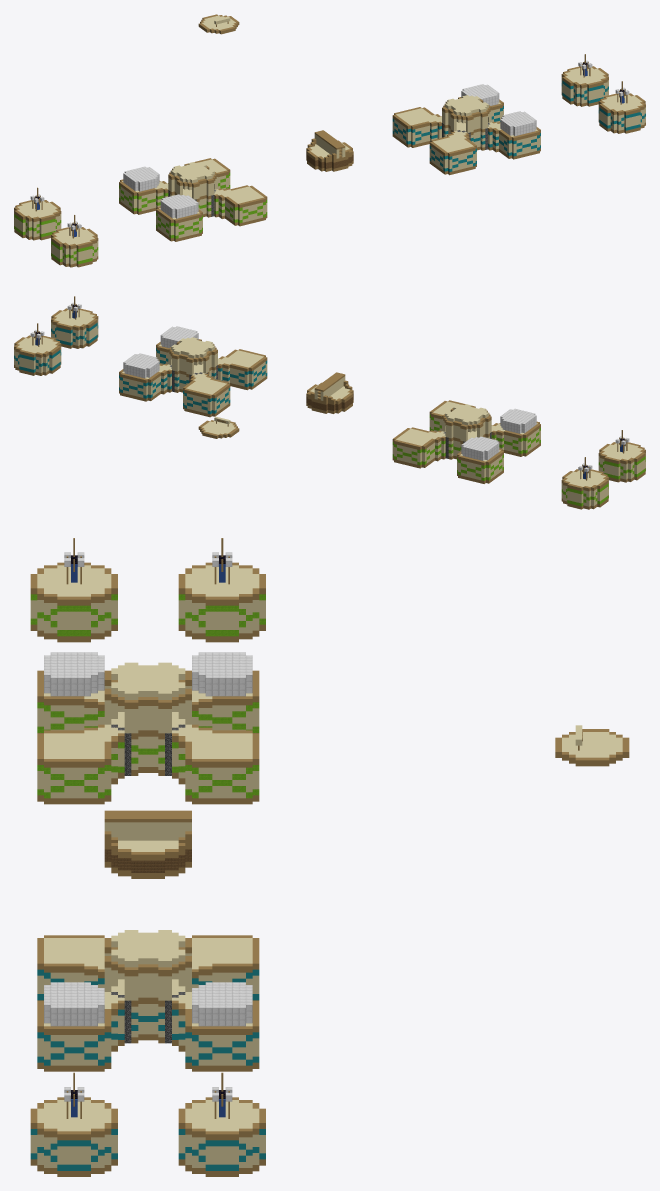
Rendered from minecraft.obj.
3 views of the same model, one above another, from view 1: azimuth 30°, elevation 25°; view 2: azimuth 150°, elevation 25°; view 3: azimuth 270°, elevation 25° (orthographic). The views are drawn at different scales.
Bounding box in the file's own units: 201 × 26 × 89.
